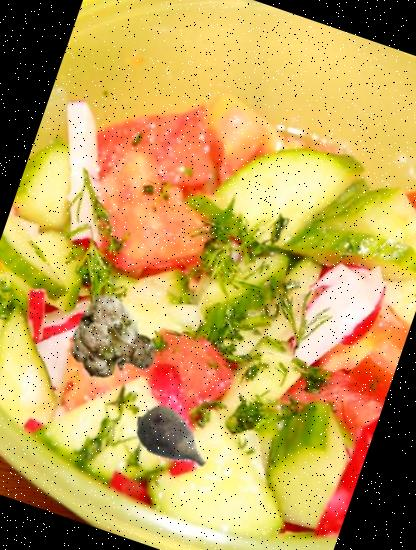Beetroot: (114, 383, 226, 495)
Cauliflower: (61, 286, 172, 396)
